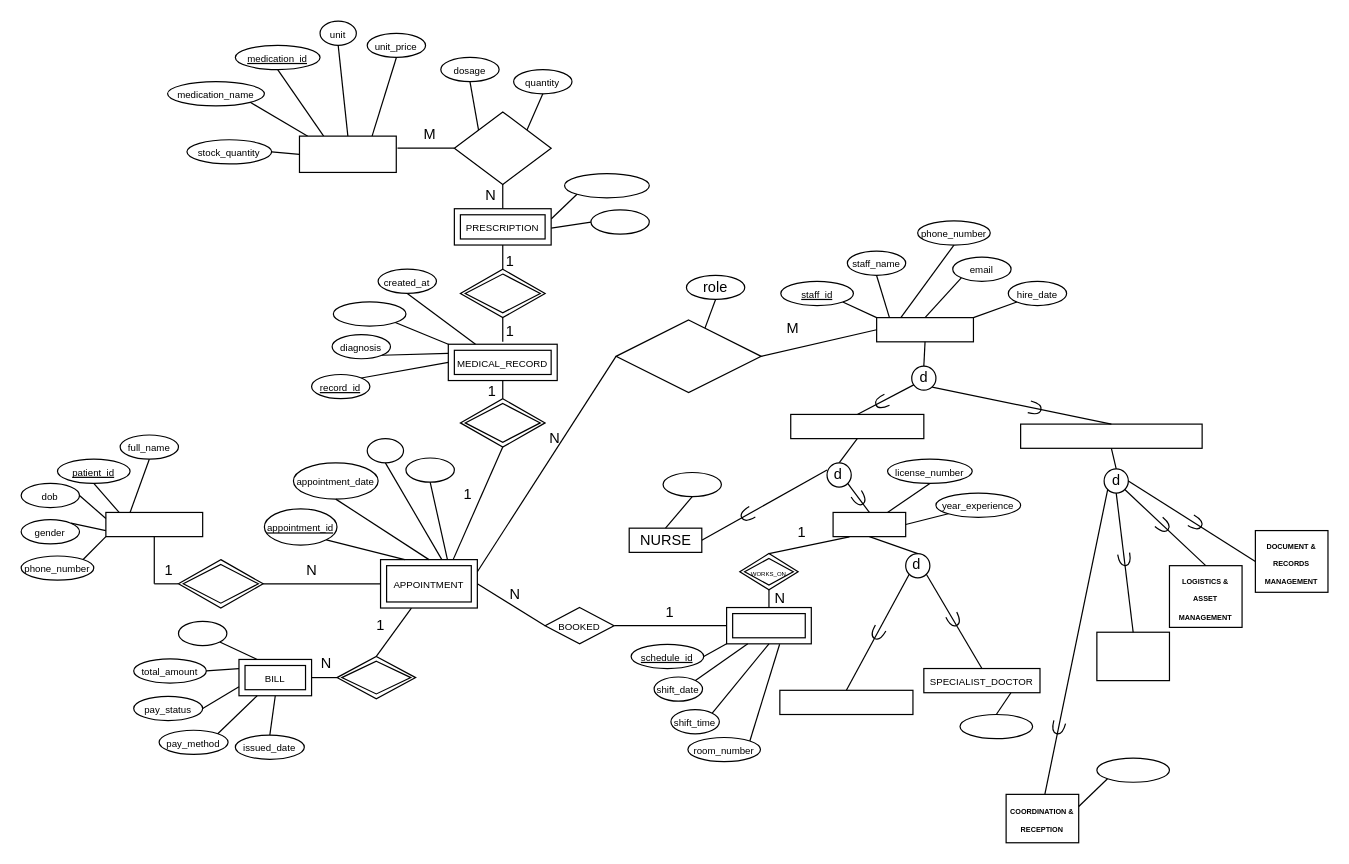
The diagram is 1349 pixels wide and 864 high, and some of its shapes have lost their labels. Each missing label, with the box of its shape:
ADMINISTRATIVE_STAFF: (1019, 423, 1202, 448)
ASSIGNED: (615, 319, 761, 393)
bill_id: (177, 620, 227, 646)
department: (662, 471, 721, 497)
desk_location: (1096, 757, 1169, 782)
DOCTOR: (832, 511, 906, 537)
doctor_notes: (332, 301, 406, 326)
GENERAL_PRACTITIONER: (779, 689, 913, 715)
GENERATES: (336, 655, 416, 699)
HAS_RECORD: (459, 397, 545, 447)
HR & ATTENDANCE SUPPORT: (1096, 631, 1169, 681)
MEDICAL_STAFF: (790, 413, 924, 439)
MEDICATION: (298, 135, 396, 172)
notes: (590, 209, 649, 234)
PATIENT: (105, 511, 203, 537)
PRESCRIBE: (459, 268, 545, 318)
PRESCRIPTION_DETAIL: (453, 111, 551, 185)
prescription_id: (563, 172, 649, 198)
REGISTERS: (177, 558, 263, 608)
specialization: (959, 713, 1033, 739)
STAFF: (875, 316, 973, 342)
status: (366, 437, 404, 463)
symptoms: (405, 457, 454, 482)
WORK_SCHEDULE: (725, 606, 811, 644)
